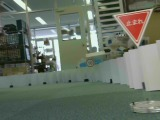stop: (111, 9, 156, 46)
